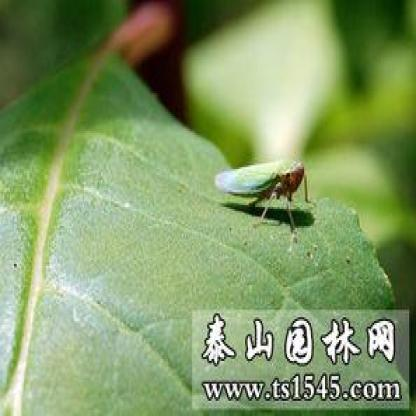Green-Leafhopper: (214, 152, 321, 240)
